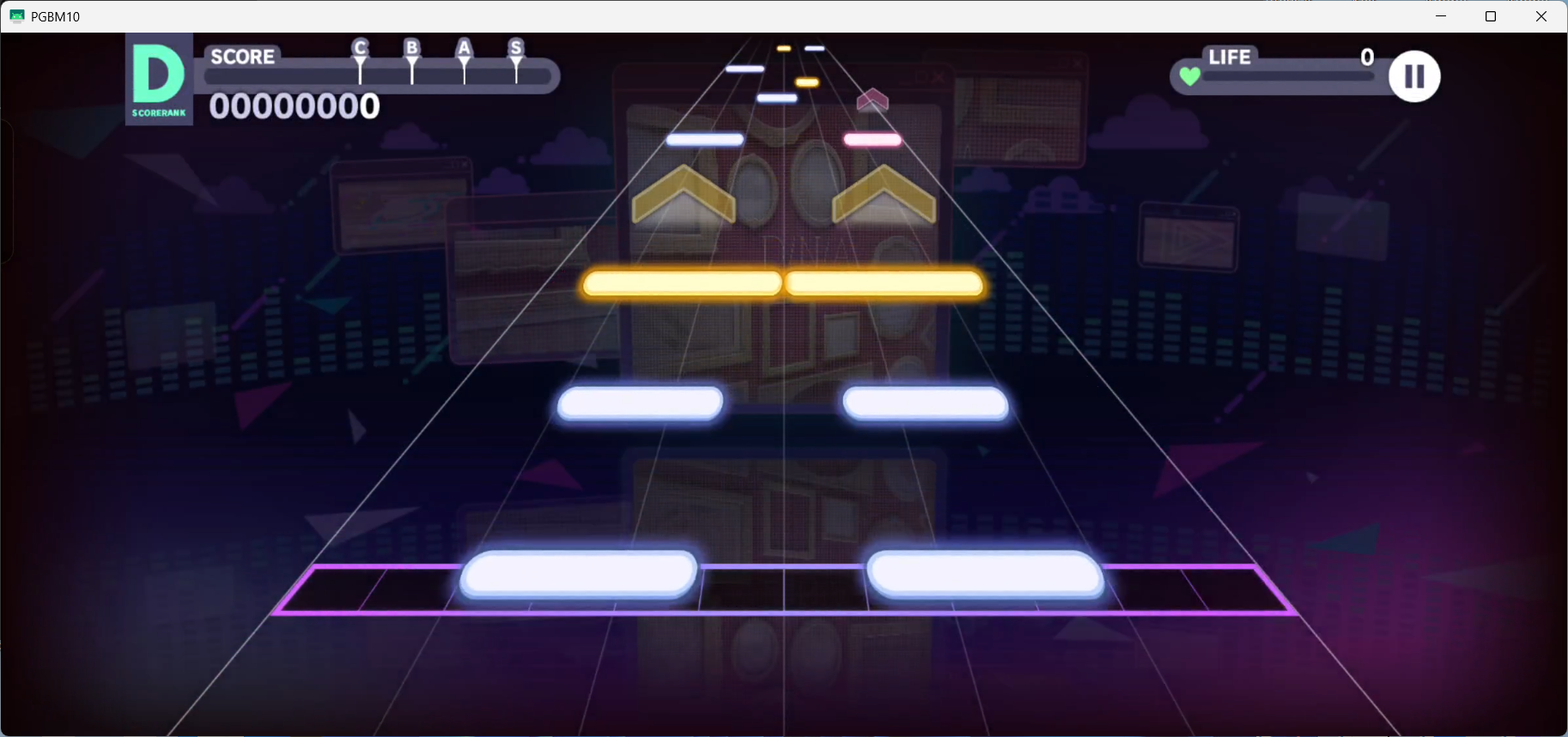flick: (631, 162, 736, 227), (833, 162, 937, 227), (857, 88, 889, 116)
tap: (865, 548, 1107, 599), (459, 550, 696, 599), (558, 387, 725, 422), (843, 386, 1008, 421), (785, 269, 983, 296), (581, 271, 781, 297), (665, 133, 743, 146), (844, 133, 902, 147), (757, 94, 797, 102), (725, 65, 764, 73), (795, 77, 818, 87), (804, 45, 824, 51), (777, 45, 790, 51)
